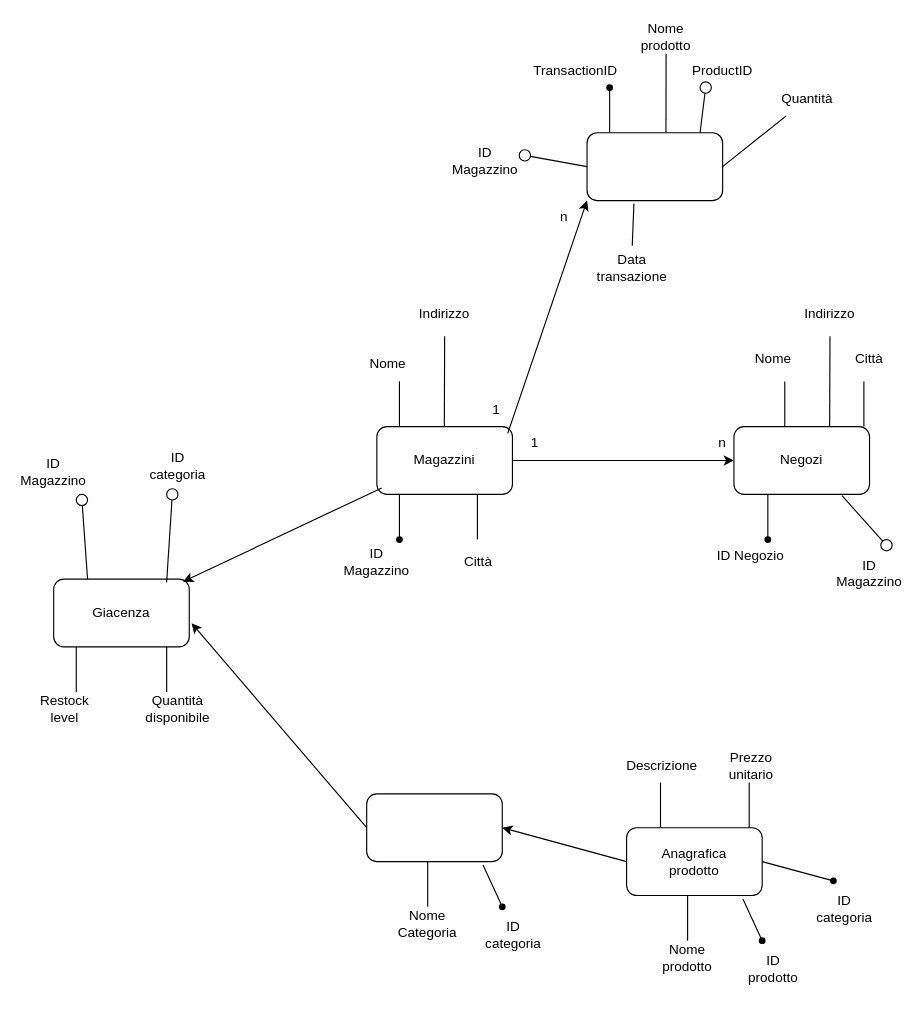
This 922x1010 diagram has some shape labels left out. Here are the shapes that lost their labels. From the top down, the centre of each, then its label:
At (x=654, y=166): "Transazioni".
At (x=434, y=827): "Categoria prodotto".
